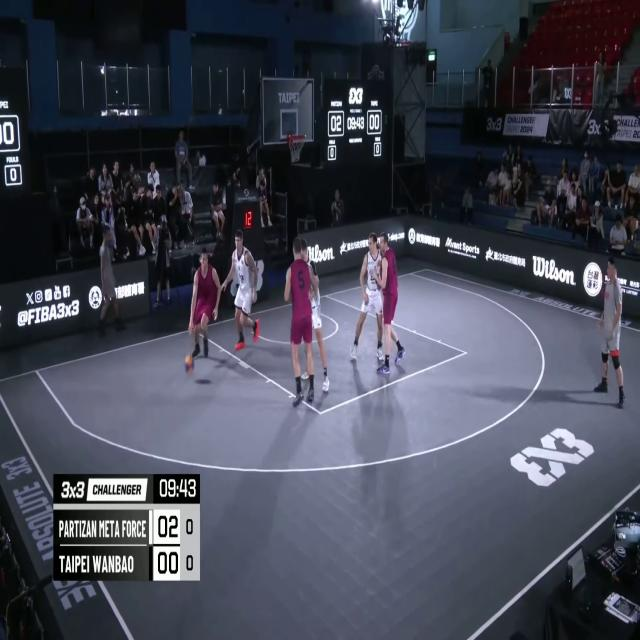ball: (183, 350, 196, 376)
hoop: (289, 132, 306, 166)
player: (285, 237, 317, 408), (220, 229, 258, 356), (372, 233, 405, 376), (301, 234, 329, 398), (350, 232, 382, 365), (189, 246, 222, 363)
